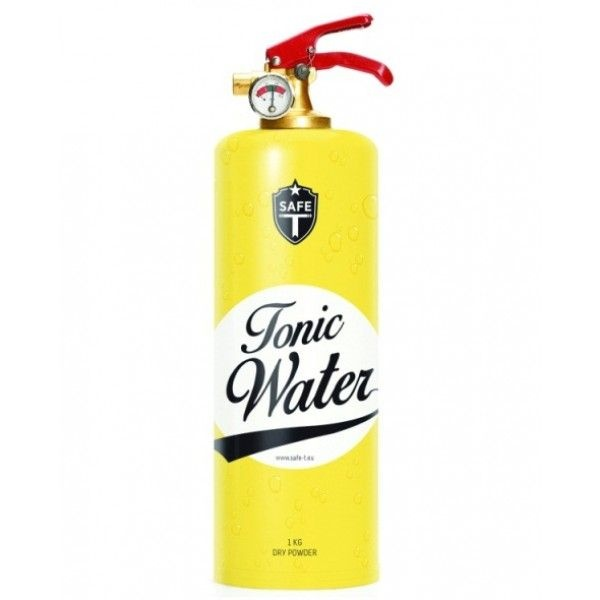fire_extinguisher: (211, 12, 394, 591)
